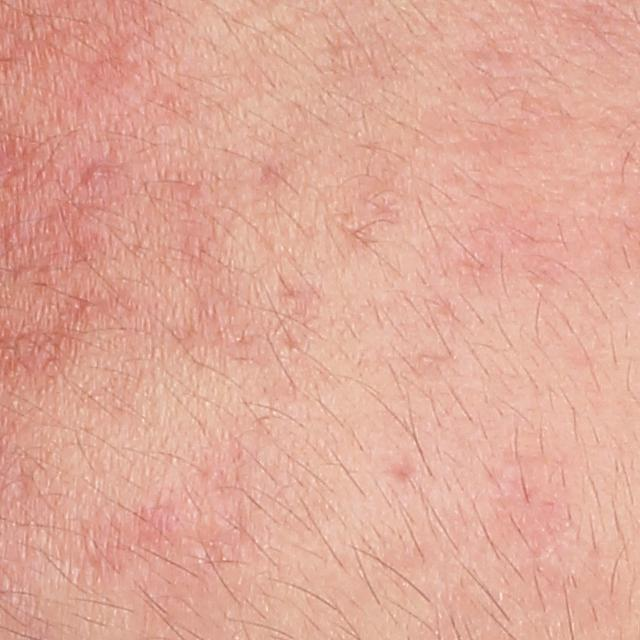atrophic_scar: (384, 457, 419, 482)
